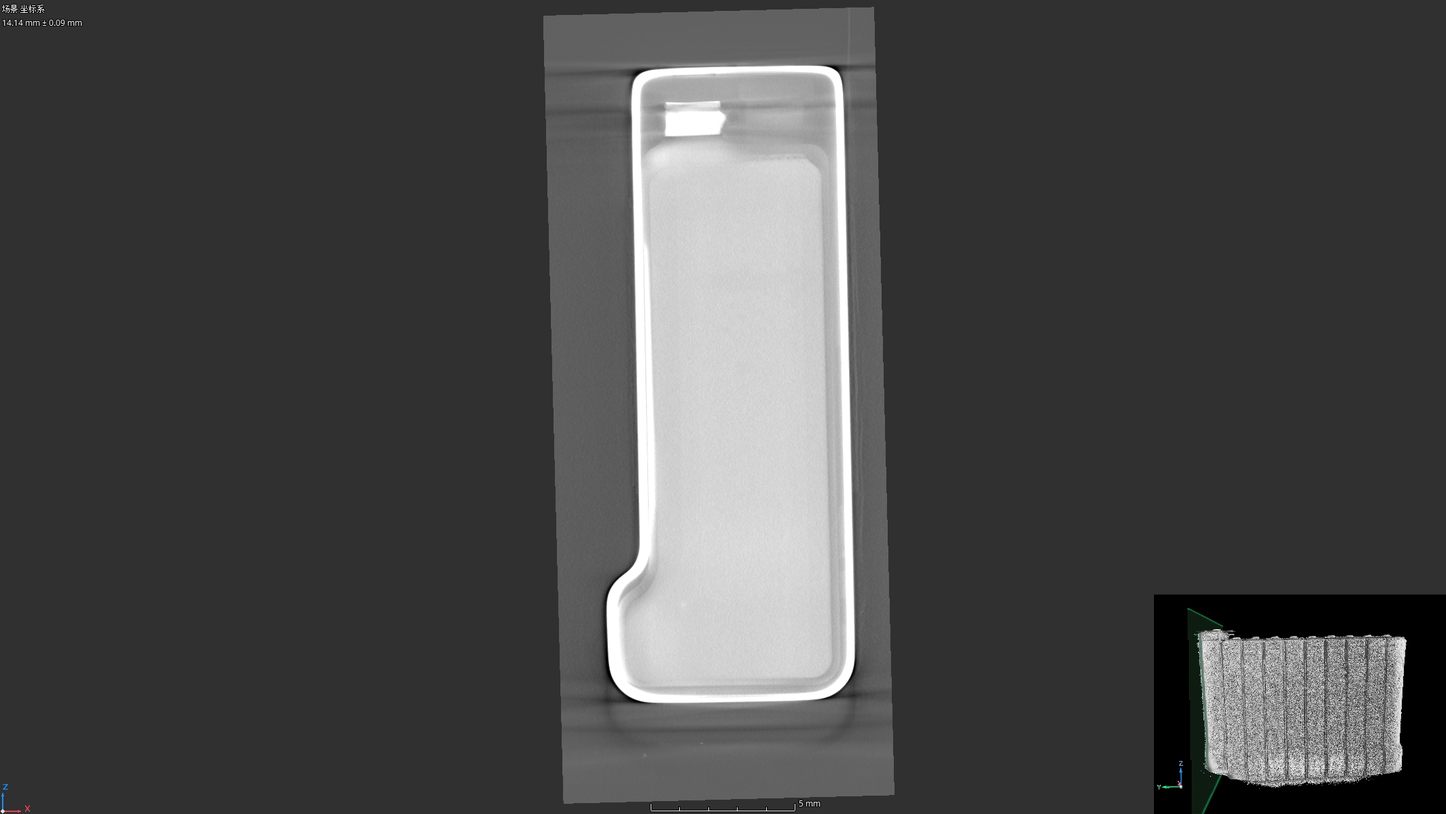light: (674, 600, 690, 612)
